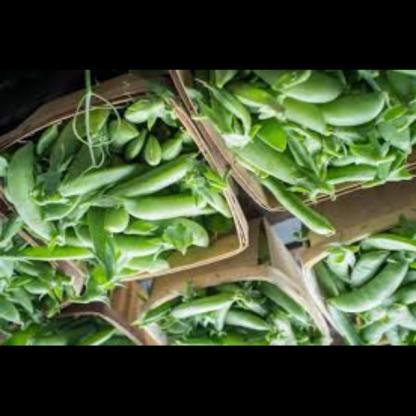peas: (18, 116, 208, 270), (240, 79, 416, 217), (324, 253, 416, 346), (0, 226, 75, 338), (144, 300, 303, 346)
